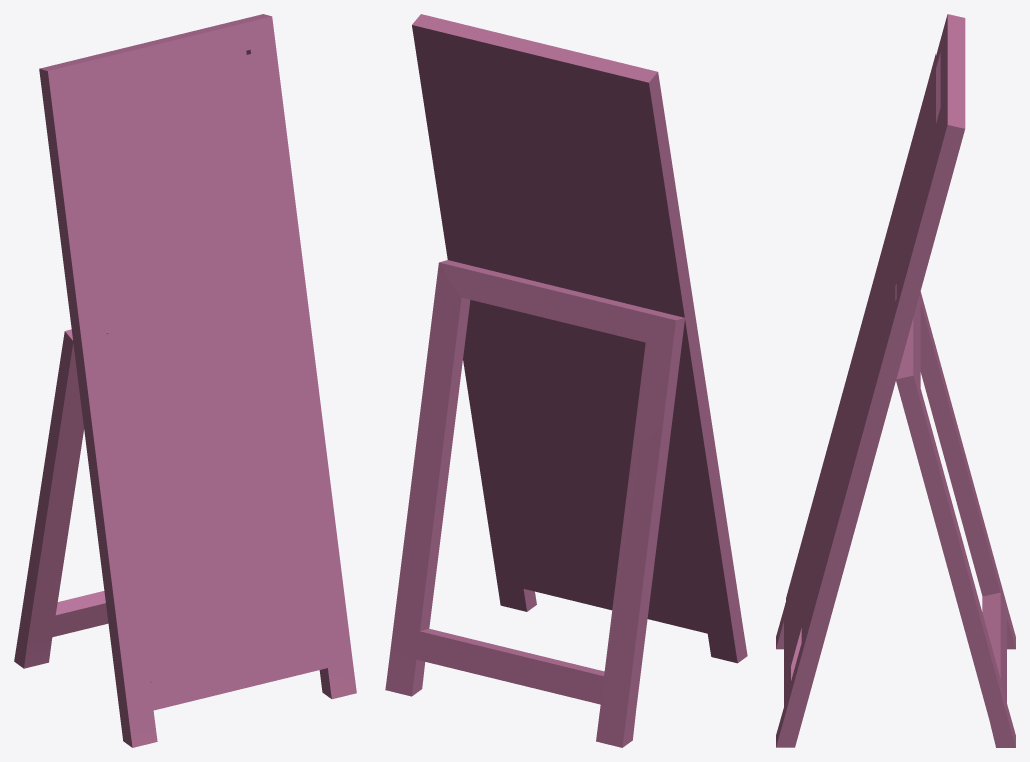
File: FreestandMirror.fbx
3 renders of one model, left to right at view 1: azimuth 30°, elevation 25°; view 2: azimuth 150°, elevation 25°; view 3: azimuth 270°, elevation 25°, orthographic. The views are drawn at different scales.
Visible parts, largest first — view 1: FreestandMirror.001, FreestandMirror; view 2: FreestandMirror; view 3: FreestandMirror, FreestandMirror.001.
Boxes of the visible parts, x1,y1,x2,y2 form: FreestandMirror.001: (78,53,326,687); FreestandMirror: (14,14,356,747); FreestandMirror: (385,14,747,747); FreestandMirror: (776,14,1015,747); FreestandMirror.001: (786,54,935,683).
Bounding box in the file's own units: 66 × 173 × 60.35.
